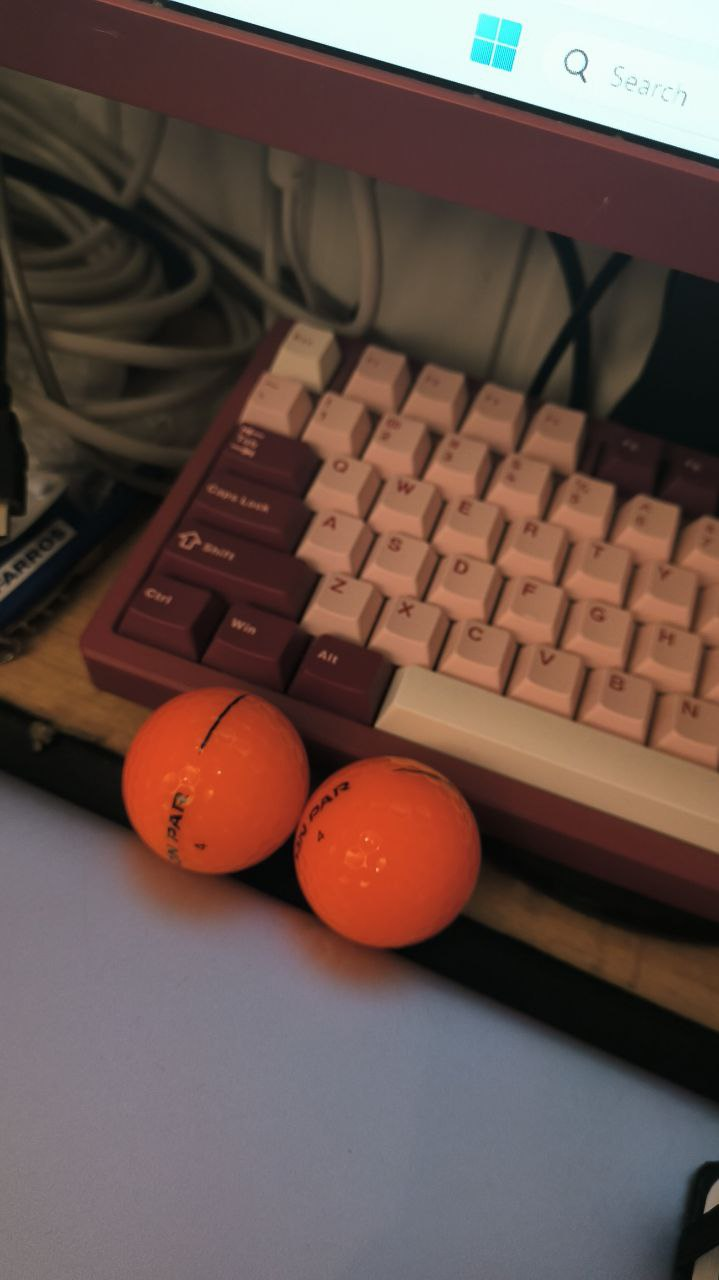orange_ball: (121, 685, 313, 875), (296, 753, 481, 949)
